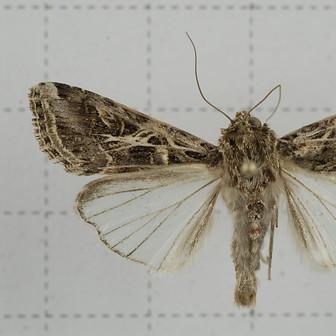Spodoptera litura: (28, 32, 336, 309)
